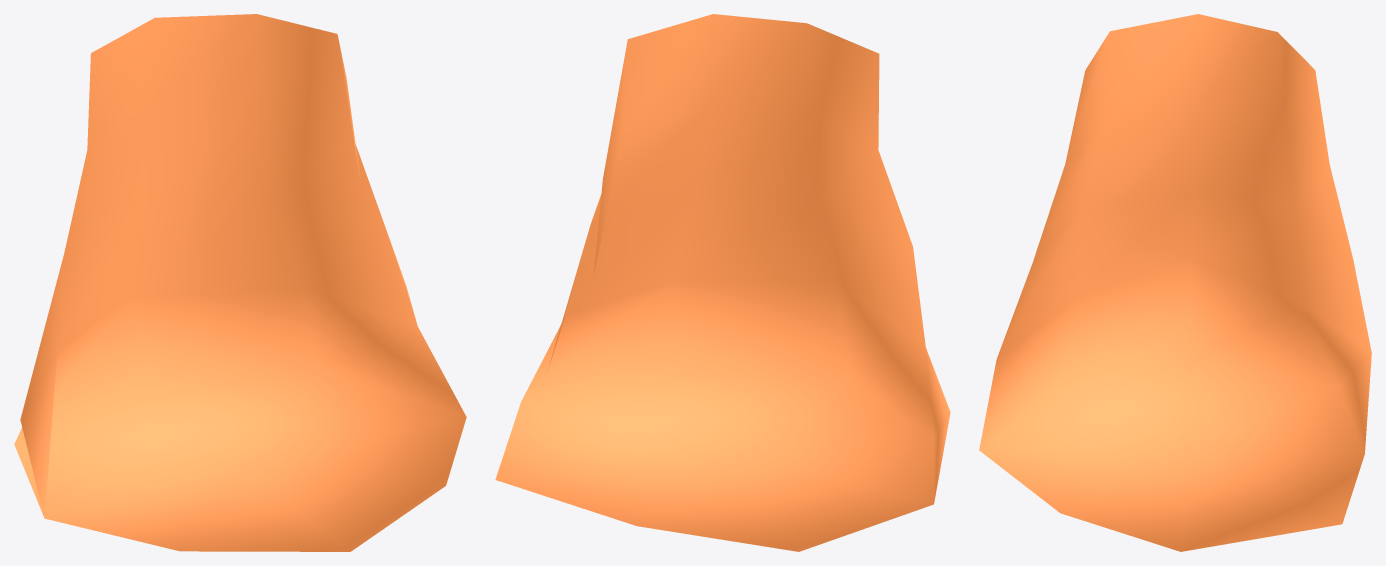
Rendered from prop-volcano-06.glb.
3 views of the same model, side by side, from view 1: azimuth 30°, elevation 25°; view 2: azimuth 150°, elevation 25°; view 3: azimuth 270°, elevation 25° (orthographic). The views are drawn at different scales.
Visible parts, largest first — view 1: volcano; view 2: volcano; view 3: volcano.
Boxes of the visible parts, x1=… form: volcano: x1=14, y1=14, x2=466, y2=551; volcano: x1=495, y1=14, x2=950, y2=551; volcano: x1=979, y1=14, x2=1371, y2=551.
Bounding box in the file's own units: 1.14 × 1 × 0.9517.
